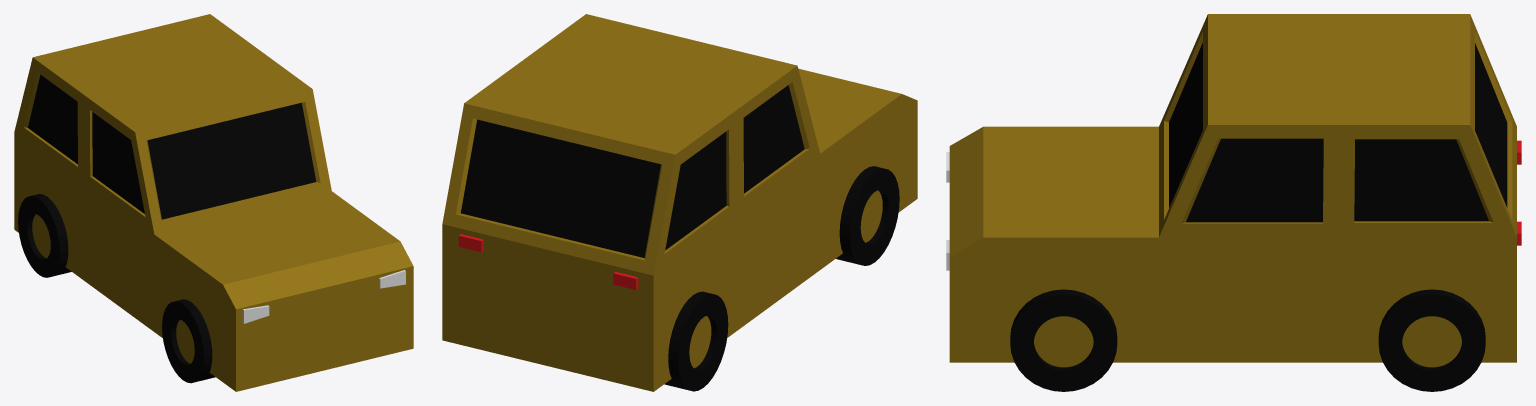
Rendered from GameJamObstacleCar.fbx.
3 renders of one model, left to right at view 1: azimuth 30°, elevation 25°; view 2: azimuth 150°, elevation 25°; view 3: azimuth 270°, elevation 25°, orthographic. The views are drawn at different scales.
Parts seen in each view (by area): view 1: Cube; view 2: Cube; view 3: Cube.
Boxes of the visible parts, left/top/right/bottom form: Cube: left=14, top=14, right=413, bottom=391; Cube: left=442, top=14, right=917, bottom=391; Cube: left=946, top=14, right=1521, bottom=391.
Size of the model in its own units: 219 by 220 by 439.
